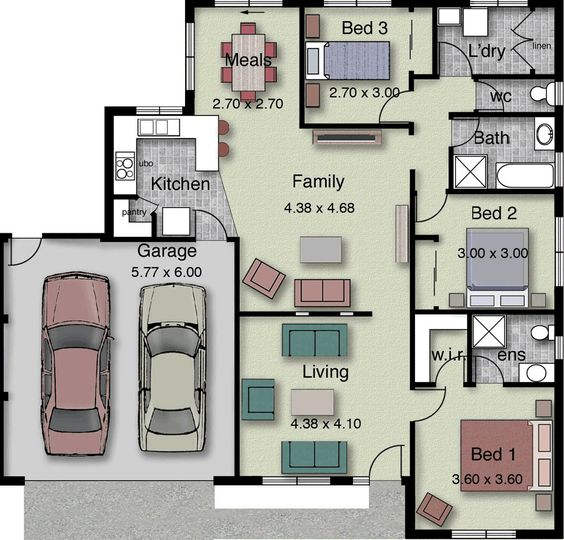door: (378, 86, 415, 125), (366, 439, 406, 475), (437, 40, 473, 76), (476, 77, 512, 113), (416, 387, 447, 426), (430, 352, 466, 384), (470, 353, 506, 385), (413, 194, 449, 226), (451, 116, 487, 148), (7, 240, 46, 269), (193, 207, 232, 236)
room: (234, 312, 415, 486), (410, 382, 564, 539), (409, 188, 563, 314), (186, 1, 304, 128), (300, 1, 413, 128), (449, 112, 564, 194)
window: (261, 476, 332, 487), (452, 528, 516, 540), (185, 20, 194, 92), (555, 217, 564, 288), (135, 106, 183, 116), (214, 1, 282, 8), (324, 1, 392, 8), (470, 1, 530, 8), (555, 152, 564, 186), (555, 335, 564, 361), (555, 82, 563, 106)
